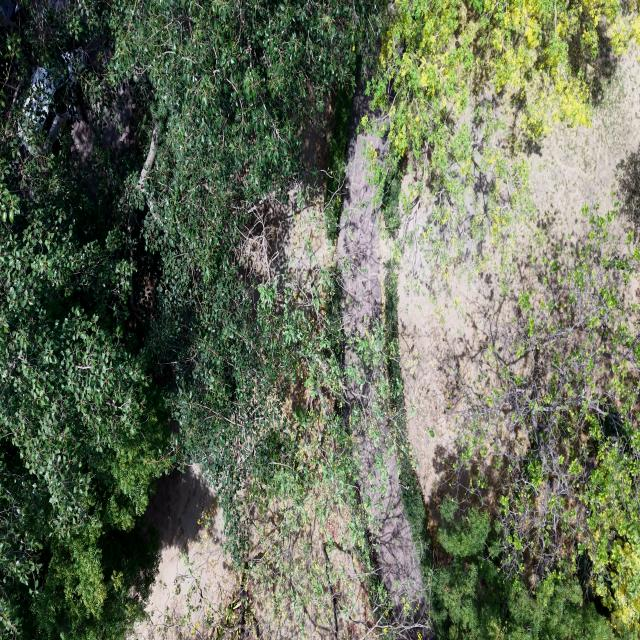DRY_AREA: (398, 47, 639, 504), (398, 49, 639, 503), (134, 385, 430, 639), (338, 86, 422, 610), (130, 466, 377, 639), (131, 465, 374, 639), (131, 465, 368, 639), (528, 47, 639, 241), (131, 465, 254, 639), (131, 465, 236, 639)
PATHWAYS: (337, 78, 429, 639)
VEGETATION_TREE: (0, 0, 639, 639), (0, 2, 376, 638), (362, 2, 639, 638), (106, 2, 378, 637), (108, 2, 377, 508), (385, 207, 639, 639), (0, 8, 172, 638), (0, 120, 171, 638), (450, 208, 639, 636), (362, 0, 639, 279), (0, 189, 170, 638), (373, 0, 639, 197), (430, 500, 613, 639)
